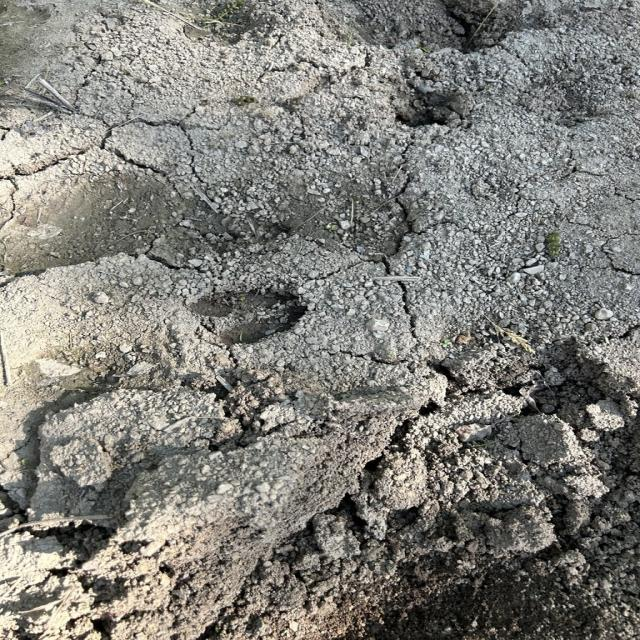deer: (194, 285, 308, 340)
